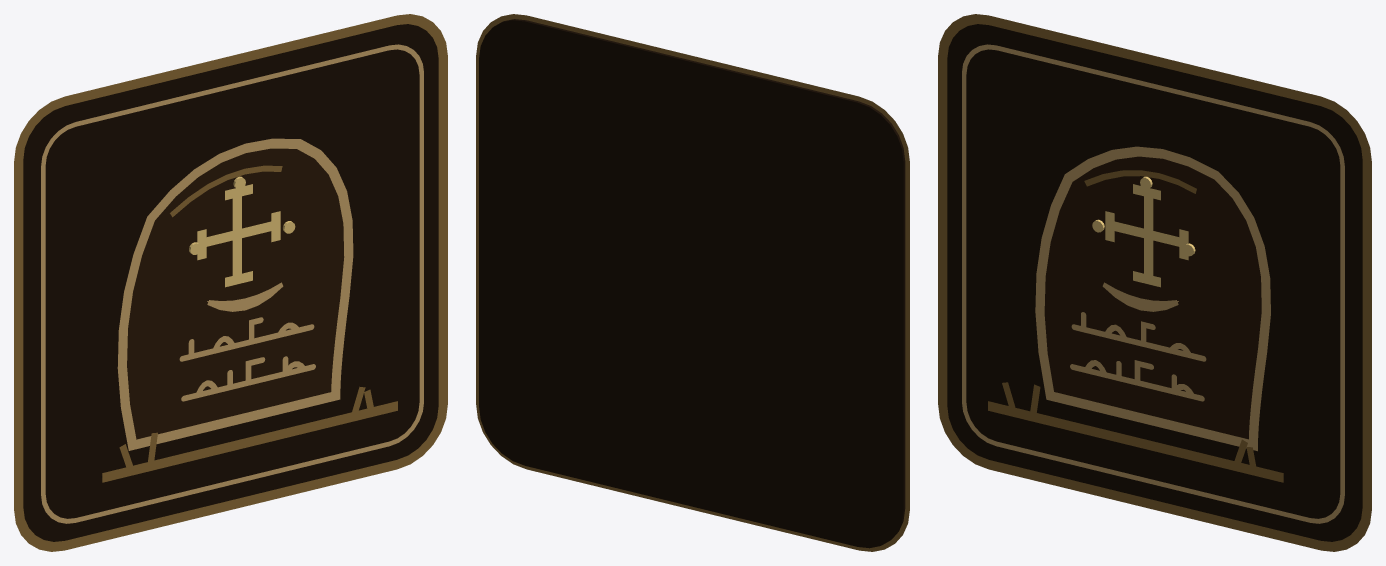
The model's file is obj-kairak.glb.
The picture shows the model from 3 angles, left to right: view 1: azimuth 30°, elevation 25°; view 2: azimuth 150°, elevation 25°; view 3: azimuth 330°, elevation 25°; orthographic projection.
Visible parts, largest first — view 1: obj-kairak; view 2: obj-kairak; view 3: obj-kairak.
Part boxes in pixels (x1=…): obj-kairak: x1=14, y1=14, x2=447, y2=551; obj-kairak: x1=476, y1=14, x2=909, y2=551; obj-kairak: x1=938, y1=14, x2=1371, y2=551.
Bounding box in the file's own units: 0.3917 × 0.3917 × 0.0351.
